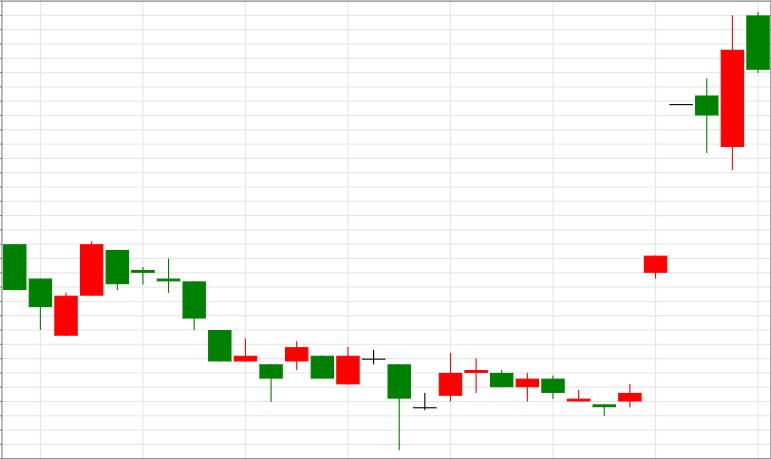hammer_rise: (132, 258, 412, 452)
